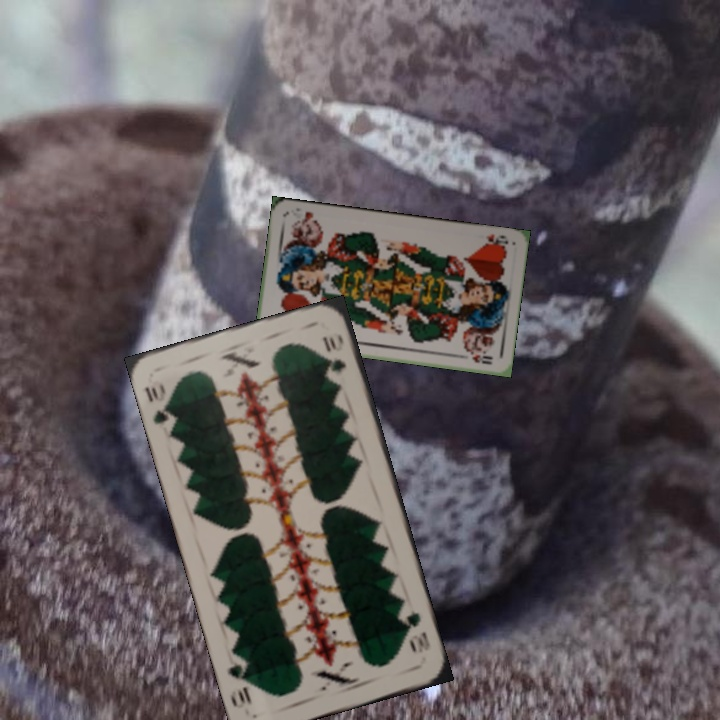G10: (140, 380, 178, 431), (401, 605, 433, 655)
HO: (478, 230, 511, 250)
